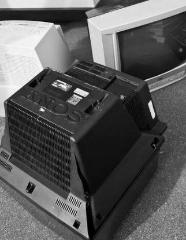electronic: (1, 55, 183, 240), (78, 0, 186, 120), (2, 12, 82, 133)
